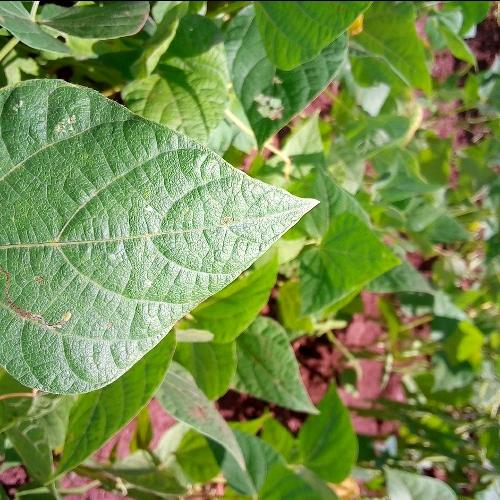sehat: (4, 109, 230, 391)
